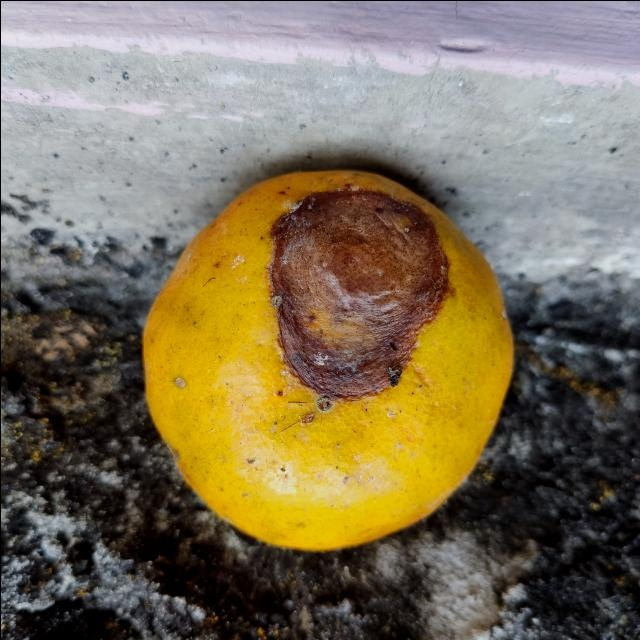agrume: (141, 167, 514, 553)
